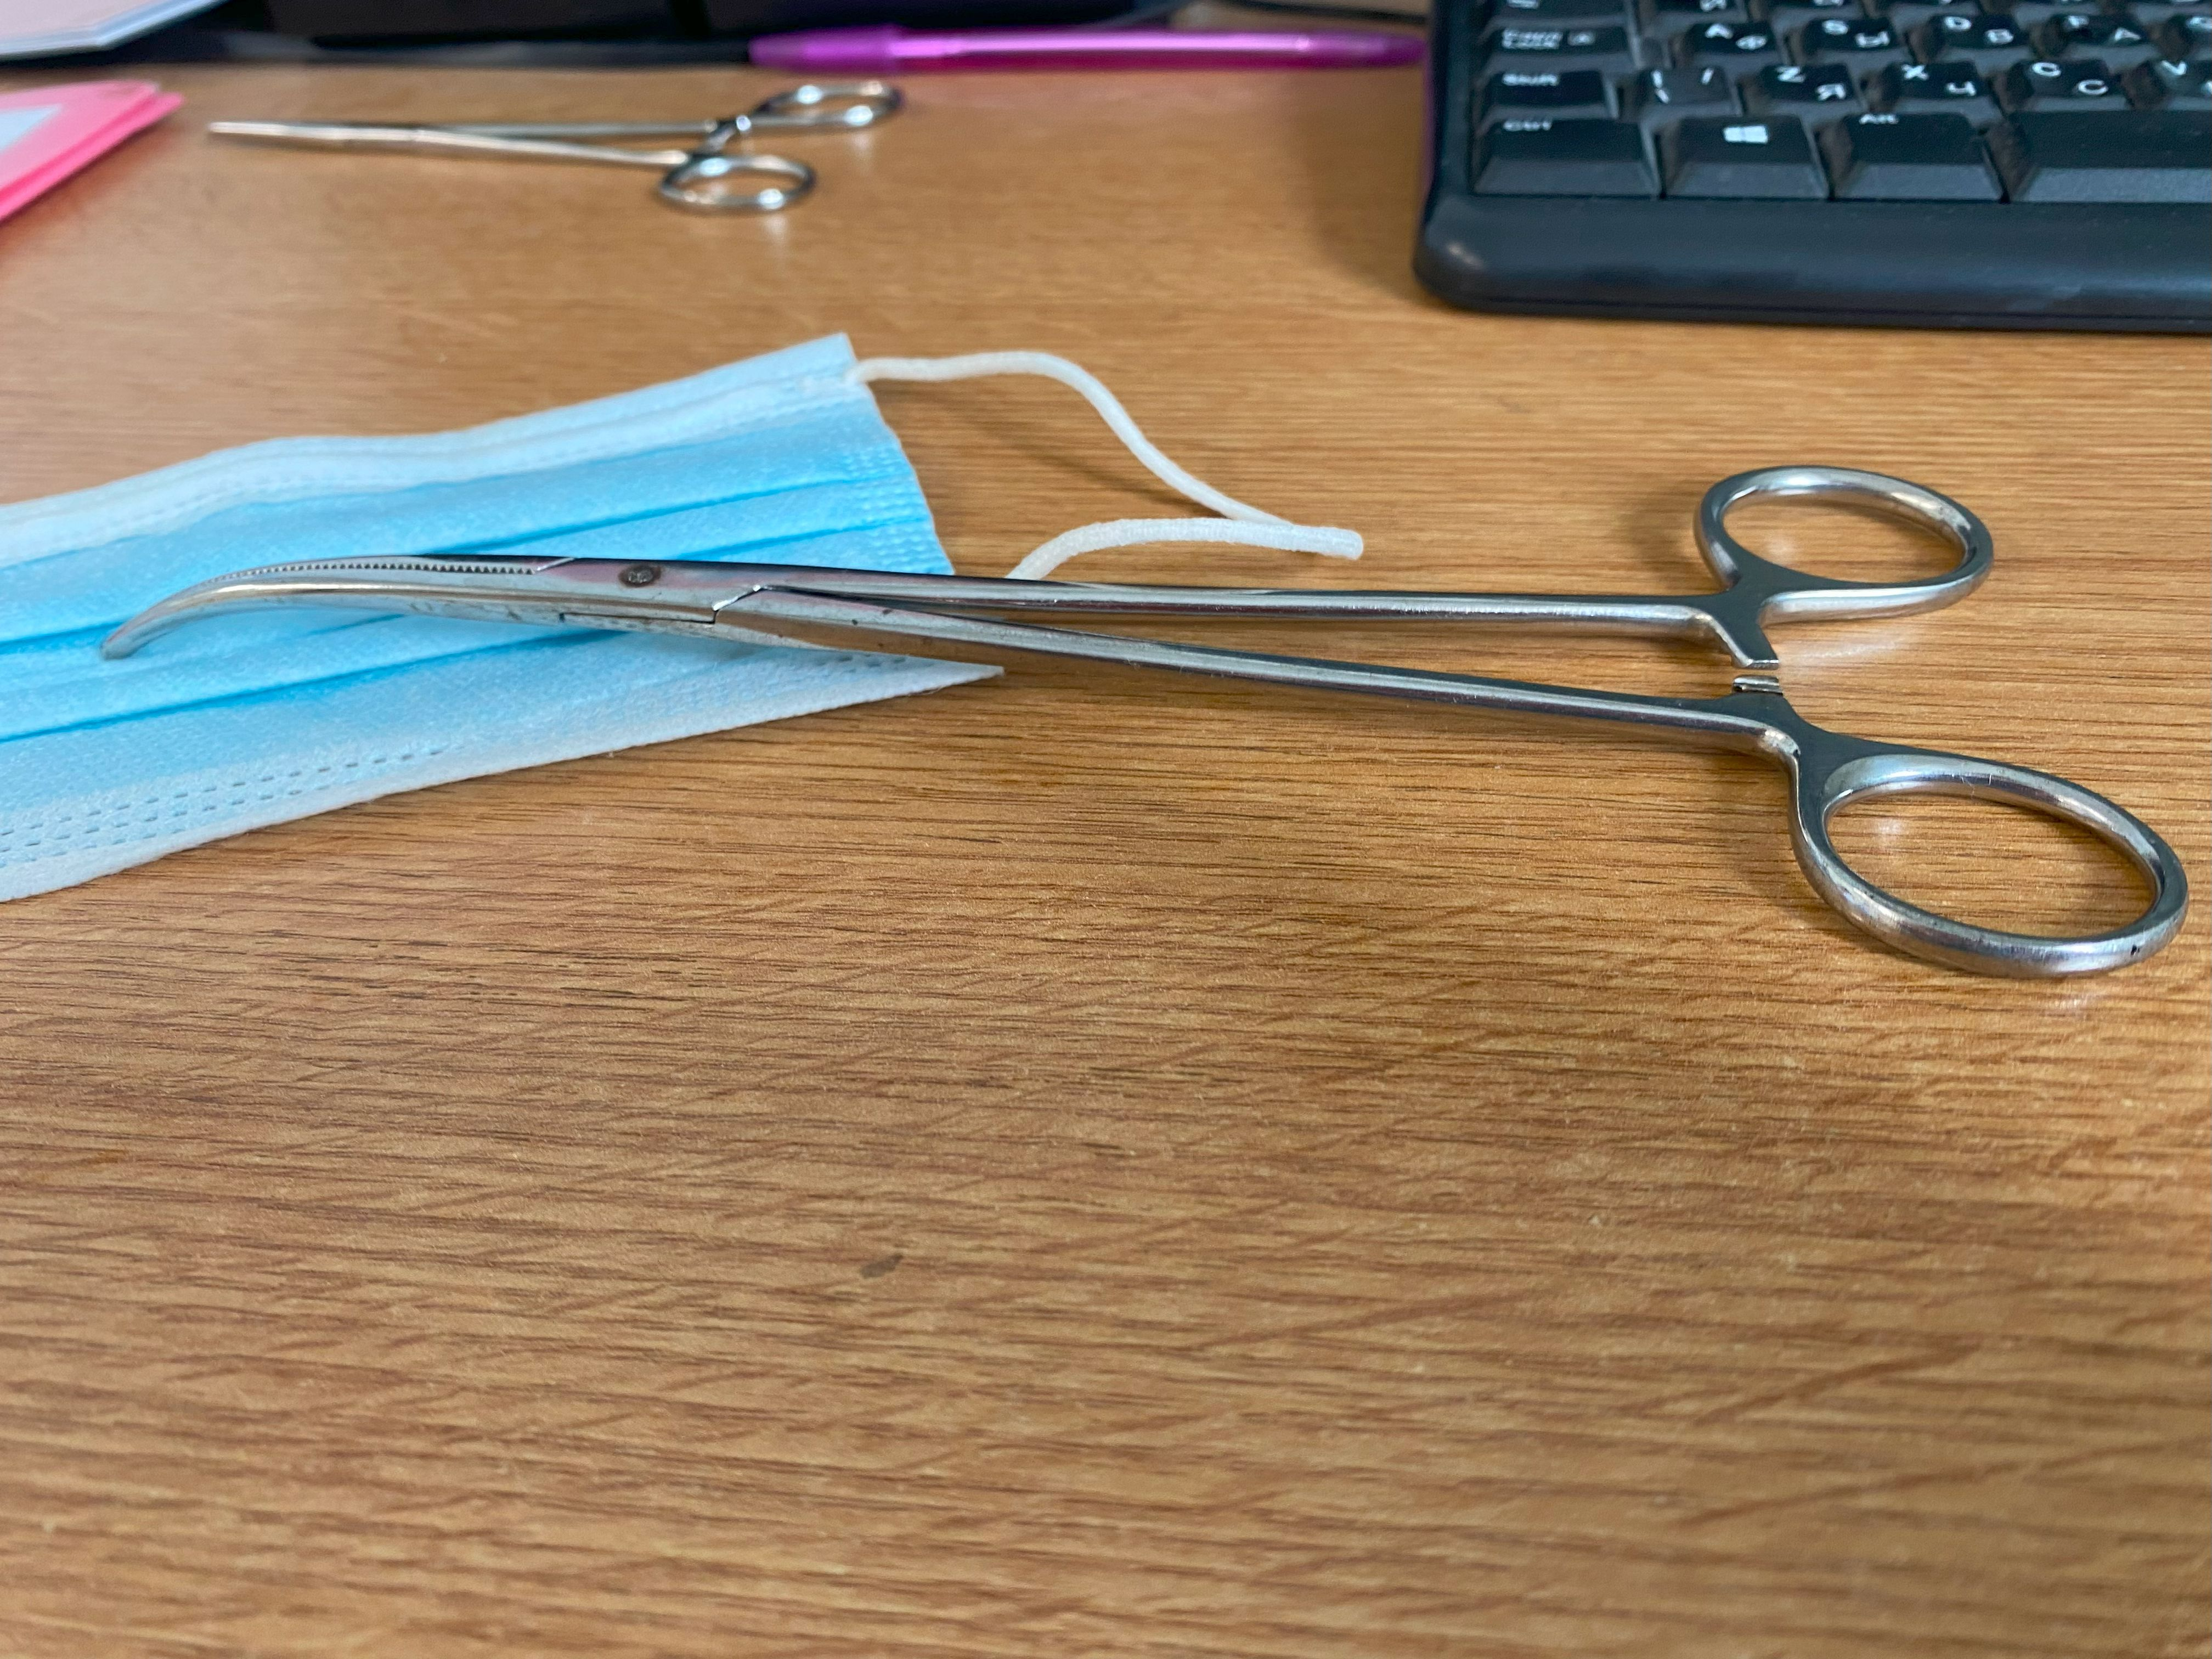clamp: (103, 469, 2186, 974), (209, 80, 902, 213)
